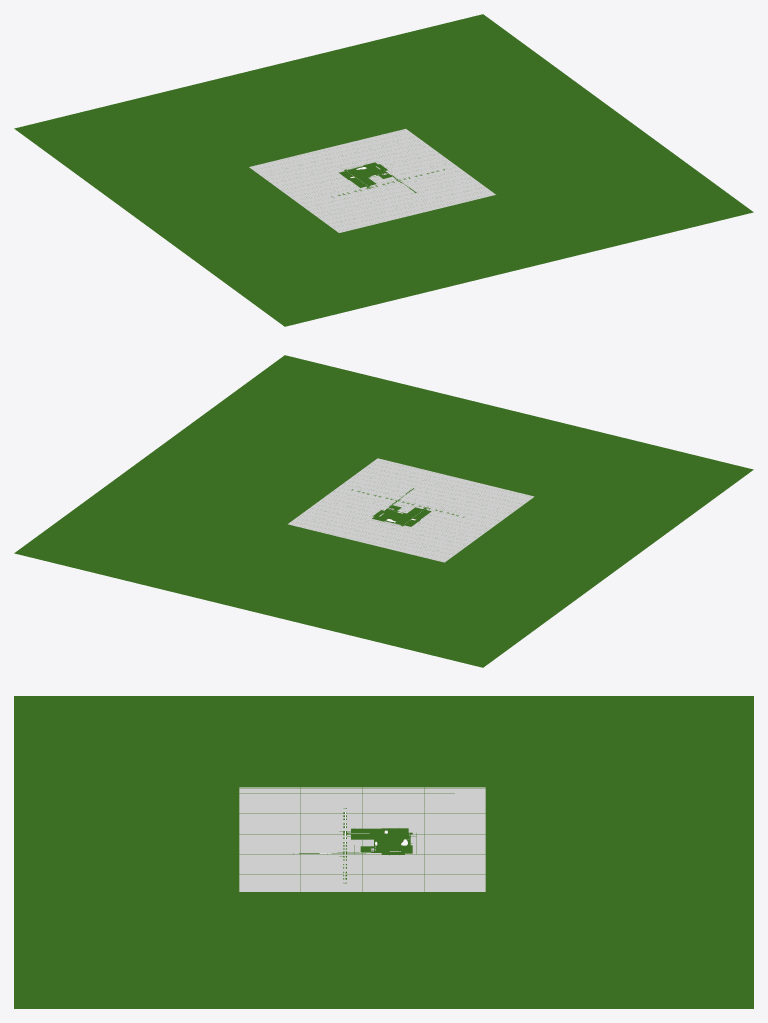
File: static.glb
3 views of the same model, one above another, from view 1: azimuth 30°, elevation 25°; view 2: azimuth 150°, elevation 25°; view 3: azimuth 270°, elevation 25° (orthographic). The views are drawn at different scales.
Parts seen in each view (by area): view 1: ground, fields; view 2: ground, fields; view 3: ground, fields.
Part boxes in pixels (x1=…): ground: x1=14, y1=14, x2=753, y2=326; fields: x1=249, y1=129, x2=495, y2=232; ground: x1=14, y1=355, x2=753, y2=667; fields: x1=288, y1=458, x2=534, y2=562; ground: x1=14, y1=696, x2=753, y2=1008; fields: x1=239, y1=787, x2=485, y2=891.
Bounding box in the file's own units: 7200 × 8.53 × 7200.
Materials: 77 (1 with a texture image).
